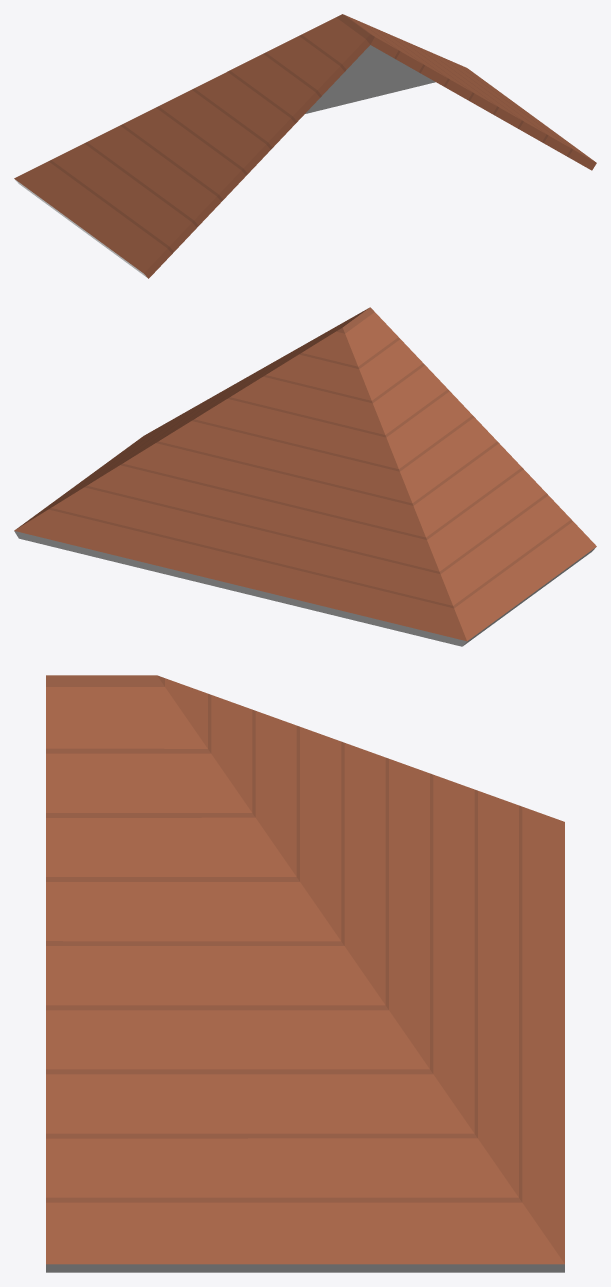
Rendered from Roof1_C5_02.fbx.
3 views of the same model, one above another, from view 1: azimuth 30°, elevation 25°; view 2: azimuth 150°, elevation 25°; view 3: azimuth 270°, elevation 25° (orthographic). The views are drawn at different scales.
Visible parts, largest first — view 1: Roof1_C5_02; view 2: Roof1_C5_02; view 3: Roof1_C5_02.
Boxes of the visible parts, x1,y1,x2,y2 form: Roof1_C5_02: (14,14,596,278); Roof1_C5_02: (14,307,596,646); Roof1_C5_02: (46,675,564,1272).
Size of the model in its own units: 565 by 227 by 280.
